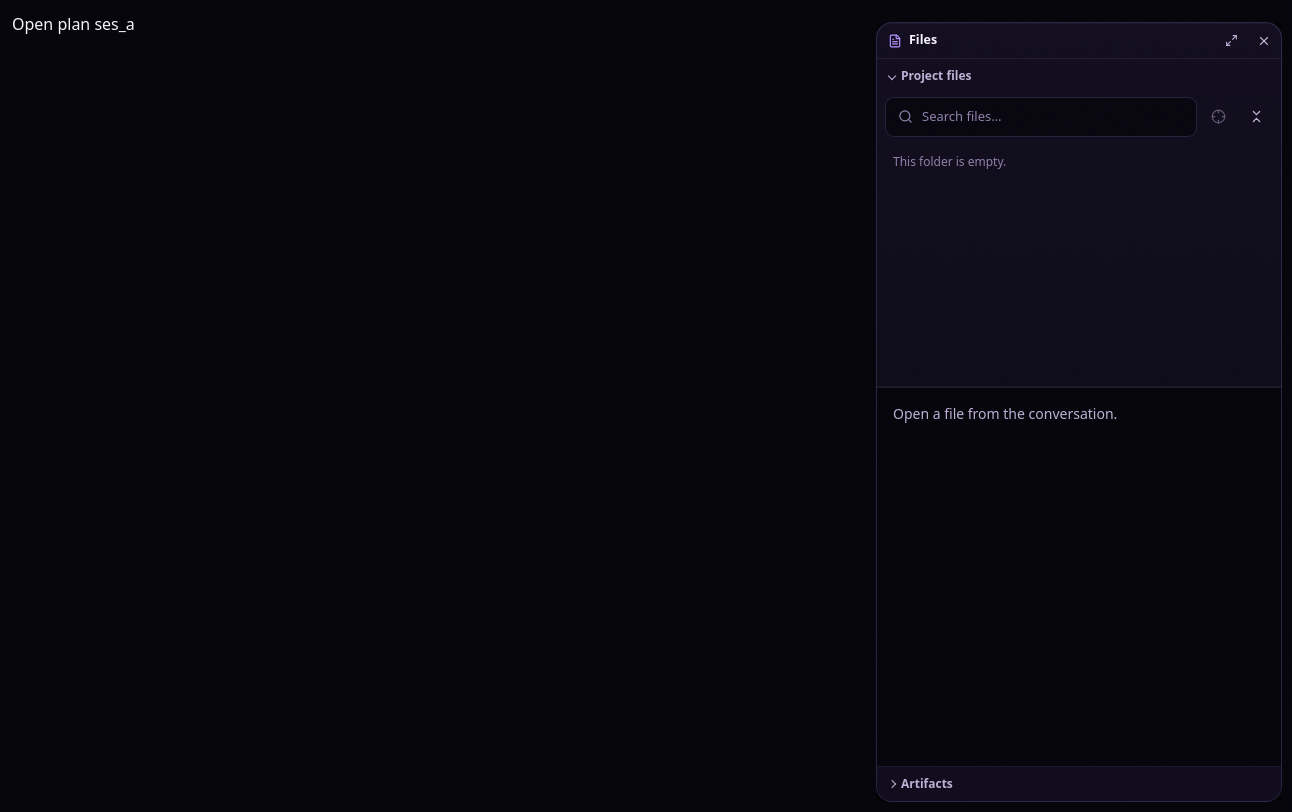
Test: uses consistent side panel names in en, including each view close button
The width and height of the screenshot is (1292, 812).
Expected: the element named "Session side panel" is shown, [872,12,1291,811]
Expected: the element named "Side panel width" is shown, [862,12,876,811]
Click the button named "Close Files" at {"x": 1264, "y": 40}, box [1251,28,1277,54]
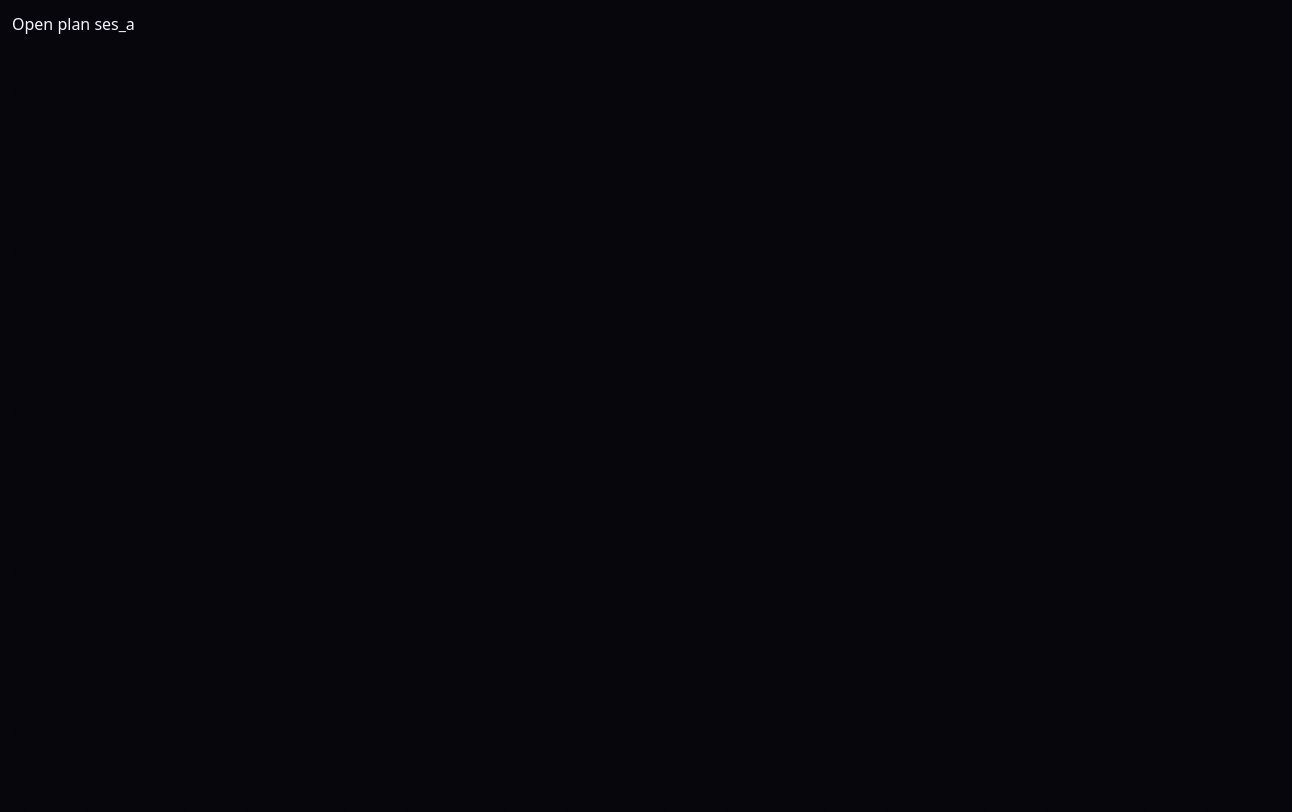
Expected: the element with test id "chat-ses_a" is shown, [12,13,135,35]
Now the element with test id "session-dock" is gone
